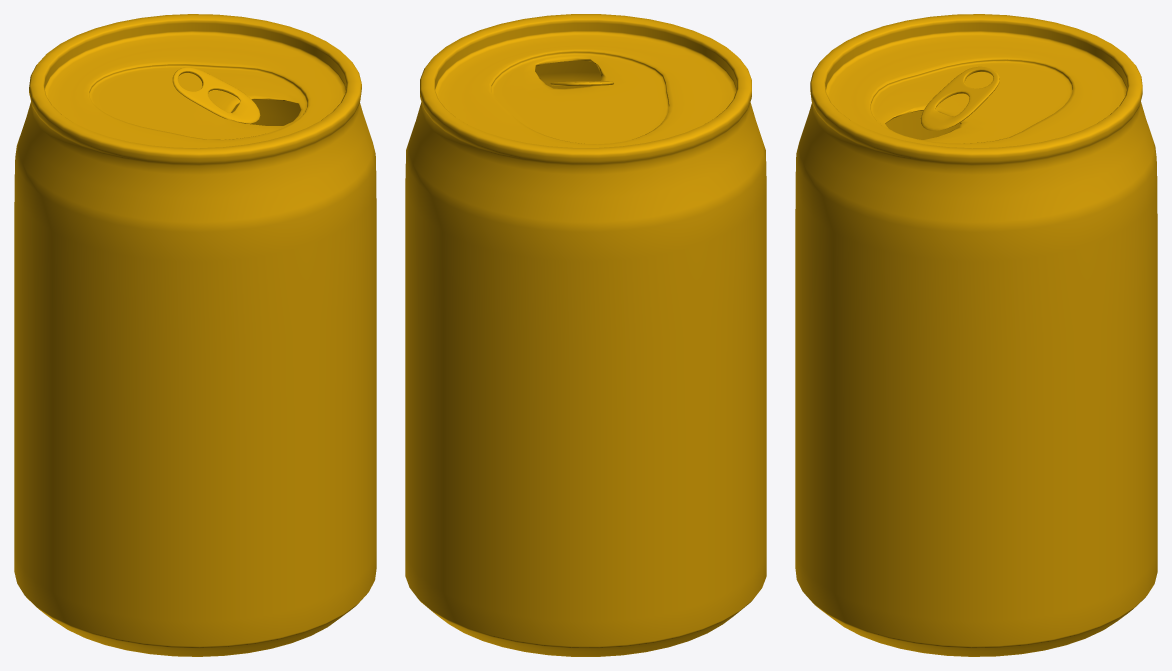
The model's file is SM_SodaCan.fbx.
The picture shows the model from 3 angles, left to right: view 1: azimuth 30°, elevation 25°; view 2: azimuth 150°, elevation 25°; view 3: azimuth 270°, elevation 25°; orthographic projection.
Parts seen in each view (by area): view 1: SM_SodaCan; view 2: SM_SodaCan; view 3: SM_SodaCan.
Boxes of the visible parts, bbox=[...] form: SM_SodaCan: bbox=[14, 14, 376, 656]; SM_SodaCan: bbox=[405, 14, 766, 656]; SM_SodaCan: bbox=[795, 14, 1157, 656].
Size of the model in its own units: 14.97 by 23.51 by 14.97.
